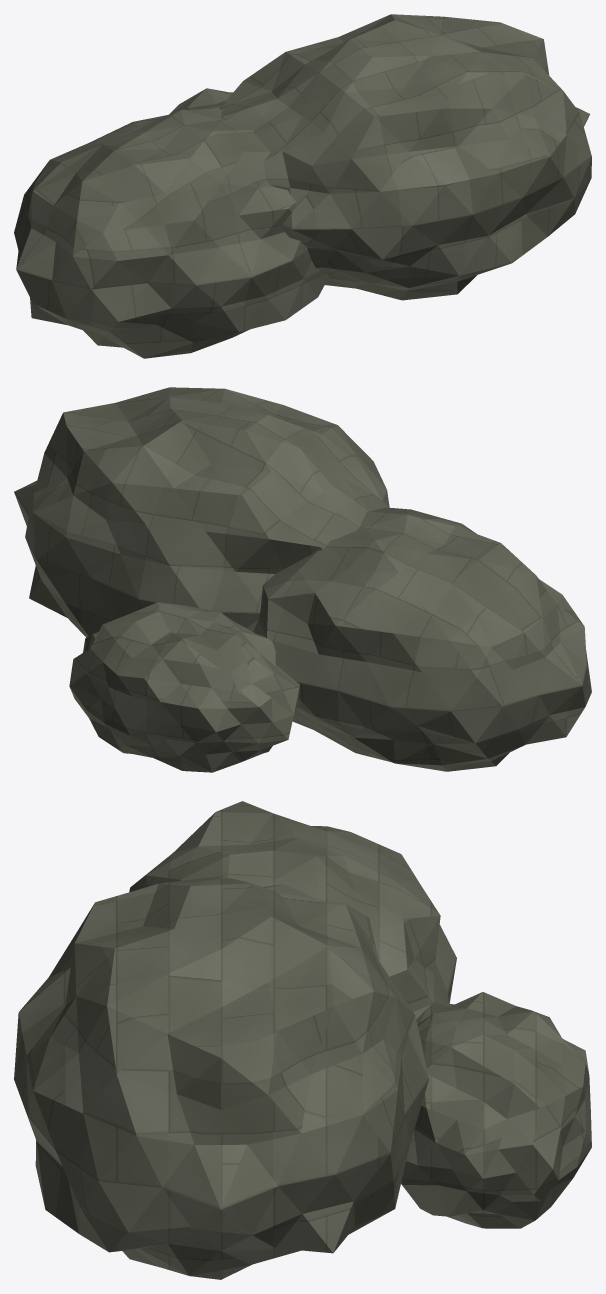
The model's file is prop_rock.glb.
The picture shows the model from 3 angles, top to bottom: view 1: azimuth 30°, elevation 25°; view 2: azimuth 150°, elevation 25°; view 3: azimuth 270°, elevation 25°; orthographic projection. The views are drawn at different scales.
Visible parts, largest first — view 1: Icosphere; view 2: Icosphere; view 3: Icosphere.
Boxes of the visible parts, x1,y1,x2,y2 form: Icosphere: (14,14,591,358); Icosphere: (14,387,591,772); Icosphere: (14,801,591,1279).
Bounding box in the file's own units: 8.53 × 4 × 5.51.
1 material, 1 textured.
